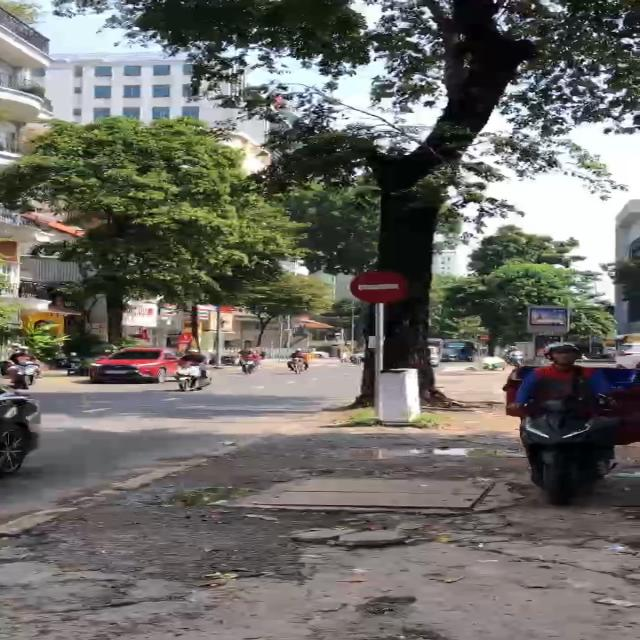Bien bao cam di nguoc chieu: (346, 267, 411, 306)
